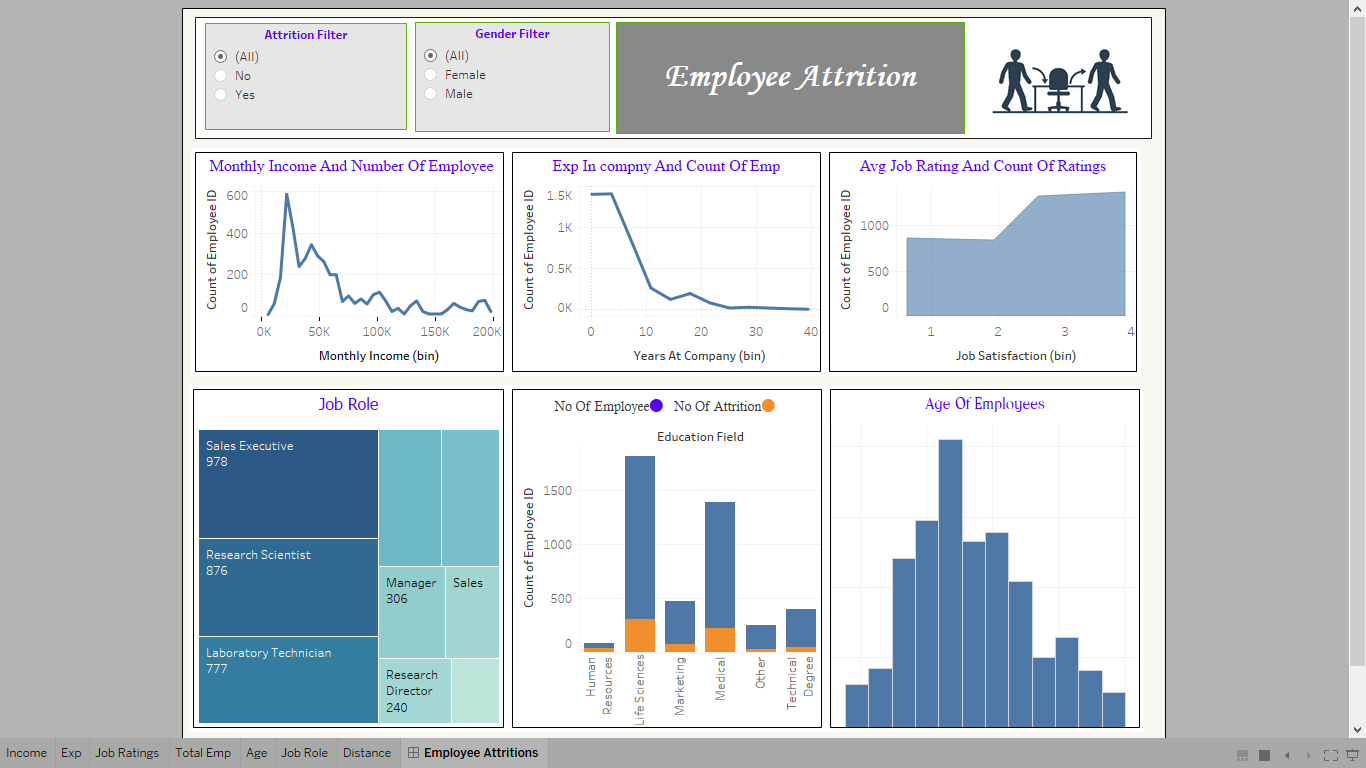

The page's visual inventory and layout, read from the dashboard file:
{"tool":"tableau","page":{"name":"Employee Attritions ","canvas":[1000,800],"ordinal":0},"visuals":[{"type":"blank","box":[22,18,416,120]},{"type":"text","box":[438,18,357,120]},{"type":"image","param":"Image/Emp IMG.png","box":[795,18,182,120]},{"type":"filter","title":"Age","param":"[federated.0mskkth065bm1q1dbekth16y4rne].[none:Gender:nk]","box":[241,22,195,110]},{"type":"filter","title":"Age","param":"[federated.0mskkth065bm1q1dbekth16y4rne].[none:Attrition:nk]","box":[31,23,202,107]},{"type":"worksheet","title":"Income","mark":"Line","rows":["EmployeeID"],"cols":["Monthly Income (bin)"],"box":[17,148,317,228]},{"type":"worksheet","title":"Exp","mark":"Line","rows":["EmployeeID"],"cols":["Years At Company (bin)"],"box":[334,148,317,228]},{"type":"worksheet","title":"Job Ratings","mark":"Area","rows":["EmployeeID"],"cols":["Job Satisfaction (bin)"],"box":[651,148,316,228]},{"type":"worksheet","title":"Job Role","mark":"Automatic","box":[15,385,319,347]},{"type":"worksheet","title":"Total Emp","mark":"Bar","rows":["EmployeeID"],"cols":["EducationField"],"box":[334,385,318,347]},{"type":"worksheet","title":"Age","mark":"Bar","rows":["Age"],"cols":["Age (bin)"],"box":[652,385,318,347]}]}

Visuals, with their boxes in screenshot pixels (x1, y1, x2, y2):
blank: (199,14,608,132)
text: (608,14,959,132)
image: (959,14,1137,132)
"Age" filter: (415,18,606,126)
"Age" filter: (208,19,407,124)
"Income" worksheet (Line marks): (195,142,506,366)
"Exp" worksheet (Line marks): (506,142,817,366)
"Job Ratings" worksheet (Area marks): (817,142,1127,366)
"Job Role" worksheet: (193,375,506,715)
"Total Emp" worksheet (Bar marks): (506,375,818,715)
"Age" worksheet (Bar marks): (818,375,1130,715)
